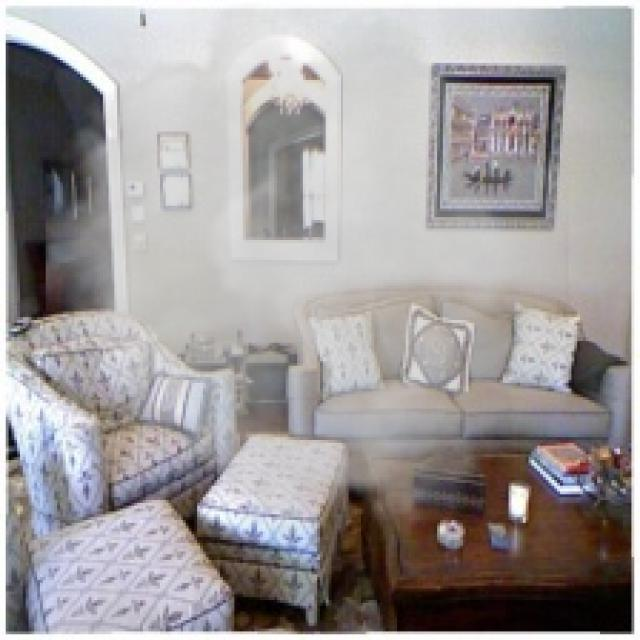Smoke: (46, 3, 568, 543)
